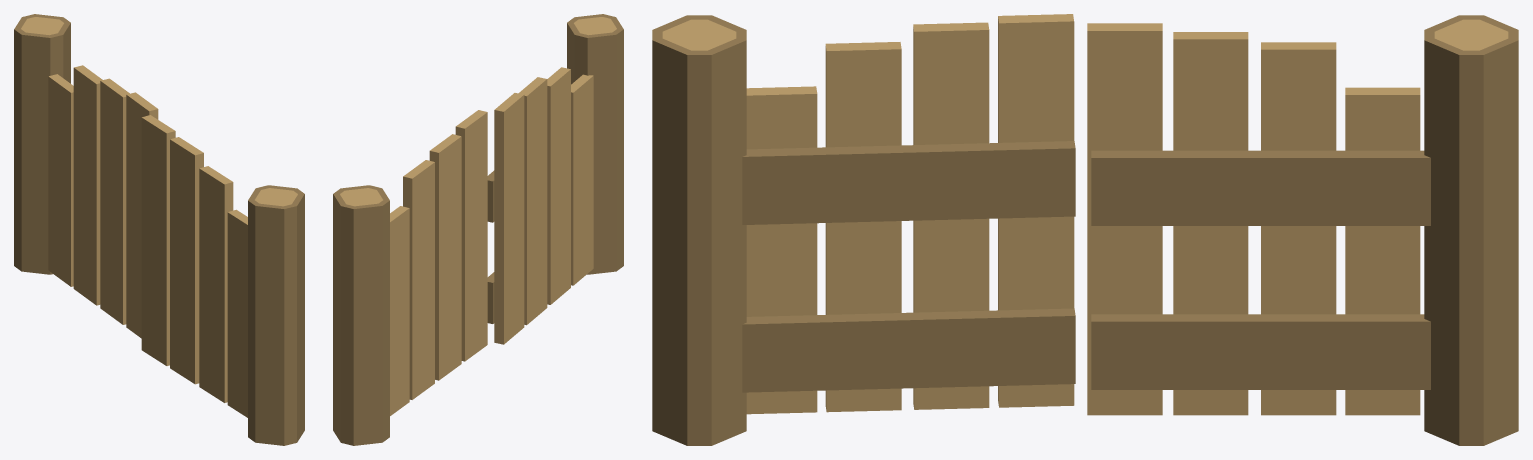
Rendered from Fence_gate.fbx.
The picture shows the model from 3 angles, left to right: view 1: azimuth 30°, elevation 25°; view 2: azimuth 150°, elevation 25°; view 3: azimuth 270°, elevation 25°; orthographic projection. The views are drawn at different scales.
Visible parts, largest first — view 1: FenceGate, Gate2, Gate1; view 2: FenceGate, Gate2, Gate1; view 3: Gate1, Gate2, FenceGate.
Boxes of the visible parts, x1,y1,x2,y2 form: FenceGate: (14, 14, 304, 445); Gate2: (141, 115, 247, 417); Gate1: (48, 65, 158, 338); FenceGate: (333, 14, 623, 445); Gate2: (487, 67, 593, 344); Gate1: (390, 110, 487, 415); Gate1: (1087, 23, 1430, 415); Gate2: (742, 14, 1075, 414); FenceGate: (652, 15, 1518, 445).
Bounding box in the file's own units: 19.89 × 91.92 × 183.
